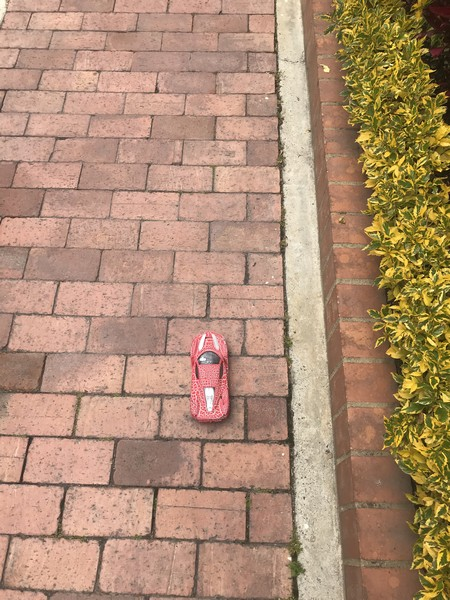RC: (188, 330, 231, 425)
